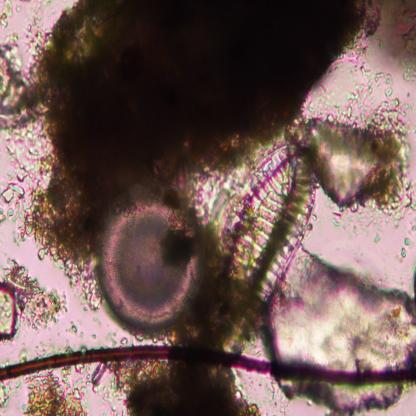Background material: (0, 0, 380, 261), (268, 254, 416, 406), (303, 109, 416, 226), (111, 361, 260, 415), (0, 258, 67, 340), (365, 1, 416, 80), (341, 70, 405, 127), (26, 368, 89, 416), (0, 177, 26, 221), (0, 0, 22, 35), (0, 385, 19, 410), (396, 235, 416, 258), (68, 320, 81, 336)
Diatom: (208, 135, 316, 350), (101, 193, 210, 335)
